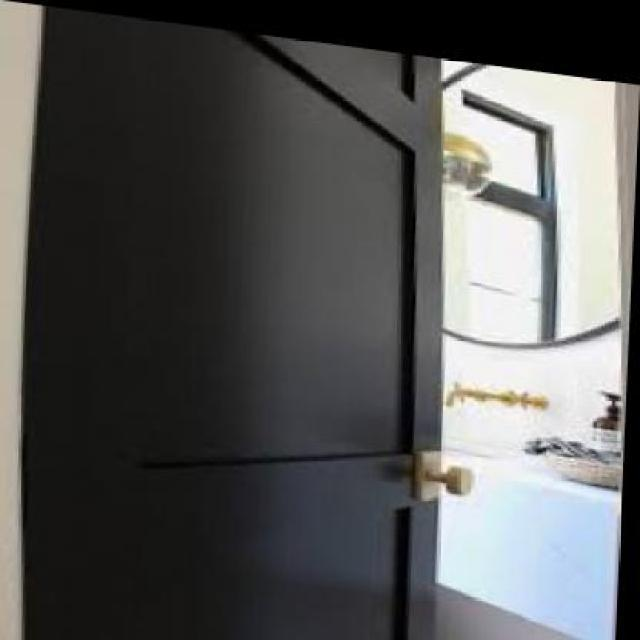door: (25, 17, 460, 639)
